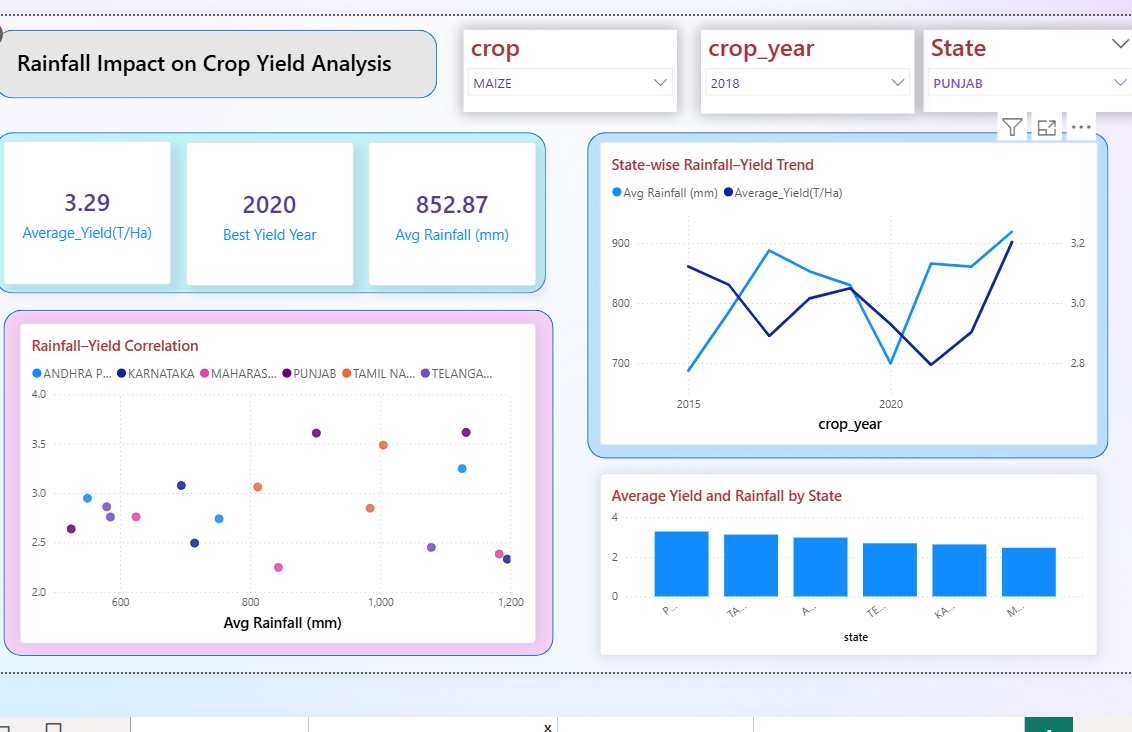

What the dashboard file says about the page in this screenshot:
{"tool":"powerbi","page":{"name":"Rainfall-Driven Yield Analysis","canvas":[1280,720],"ordinal":1},"visuals":[{"type":"shape","box":[26.1,15.1,485.8,75.5],"z":0},{"type":"shape","box":[676.5,127.6,572.2,358.1],"z":1000},{"type":"shape","box":[35.7,322.5,603.8,380.1],"z":2000},{"type":"shape","box":[26.1,127.6,605.1,177],"z":3000},{"type":"card","fields":{"Values":["gold_rainfall_yield_analysis.Best Yield Year"]},"box":[236,138.6,183.9,157.8],"z":4000},{"type":"card","fields":{"Values":["gold_rainfall_yield_analysis.Average_Yield(T/Ha)"]},"box":[35.7,137.2,183.9,157.8],"z":5000},{"type":"card","fields":{"Values":["gold_rainfall_yield_analysis.Avg Rainfall (mm)"]},"box":[436.4,138.6,183.9,157.8],"z":6000},{"type":"slicer","fields":{"Values":["gold_rainfall_yield_analysis.state"]},"box":[1045.6,15.1,234.6,90.6],"z":7000},{"type":"slicer","fields":{"Values":["gold_rainfall_yield_analysis.crop_year"]},"box":[801.4,15.1,234.6,91.9],"z":8000},{"type":"slicer","fields":{"Values":["gold_rainfall_yield_analysis.crop"]},"box":[540.7,15.1,234.6,90.6],"z":9000},{"type":"scatterChart","title":"Rainfall–Yield Correlation","fields":{"Y":["gold_rainfall_yield_analysis.avg_yield_tonnes_per_ha"],"X":["gold_rainfall_yield_analysis.Avg Rainfall (mm)"],"Series":["gold_rainfall_yield_analysis.state"]},"box":[53.5,337.6,566.7,351.3],"z":10000},{"type":"textbox","box":[45.3,30.2,447.3,46.7],"z":11000},{"type":"actionButton","box":[0,0,100,40],"z":12000},{"type":"lineChart","title":"State-wise Rainfall–Yield Trend","fields":{"Category":["gold_rainfall_yield_analysis.crop_year"],"Y":["gold_rainfall_yield_analysis.Avg Rainfall (mm)"],"Y2":["gold_rainfall_yield_analysis.Average_Yield(T/Ha)"]},"box":[690.2,138.6,546.1,332.1],"z":13000},{"type":"clusteredColumnChart","title":"Average Yield and Rainfall by State","fields":{"Category":["gold_rainfall_yield_analysis.state"],"Y":["gold_rainfall_yield_analysis.Average_Yield(T/Ha)"]},"box":[690.2,502.2,546.1,200.3],"z":14000}]}

Visuals, with their boxes in screenshot pixels (x1, y1, x2, y2):
shape: crop(0, 28, 436, 97)
shape: crop(585, 130, 1103, 454)
shape: crop(6, 306, 552, 650)
shape: crop(0, 130, 544, 290)
card - gold_rainfall_yield_analysis.Best Yield Year: crop(187, 140, 353, 283)
card - gold_rainfall_yield_analysis.Average_Yield(T/Ha): crop(6, 139, 172, 281)
card - gold_rainfall_yield_analysis.Avg Rainfall (mm): crop(368, 140, 534, 283)
slicer - gold_rainfall_yield_analysis.state: crop(919, 28, 1131, 110)
slicer - gold_rainfall_yield_analysis.crop_year: crop(698, 28, 910, 111)
slicer - gold_rainfall_yield_analysis.crop: crop(462, 28, 674, 110)
"Rainfall–Yield Correlation" scatterChart: crop(22, 320, 534, 638)
textbox: crop(14, 42, 419, 84)
actionButton: crop(0, 15, 64, 51)
"State-wise Rainfall–Yield Trend" lineChart: crop(598, 140, 1091, 440)
"Average Yield and Rainfall by State" clusteredColumnChart: crop(598, 469, 1091, 650)
